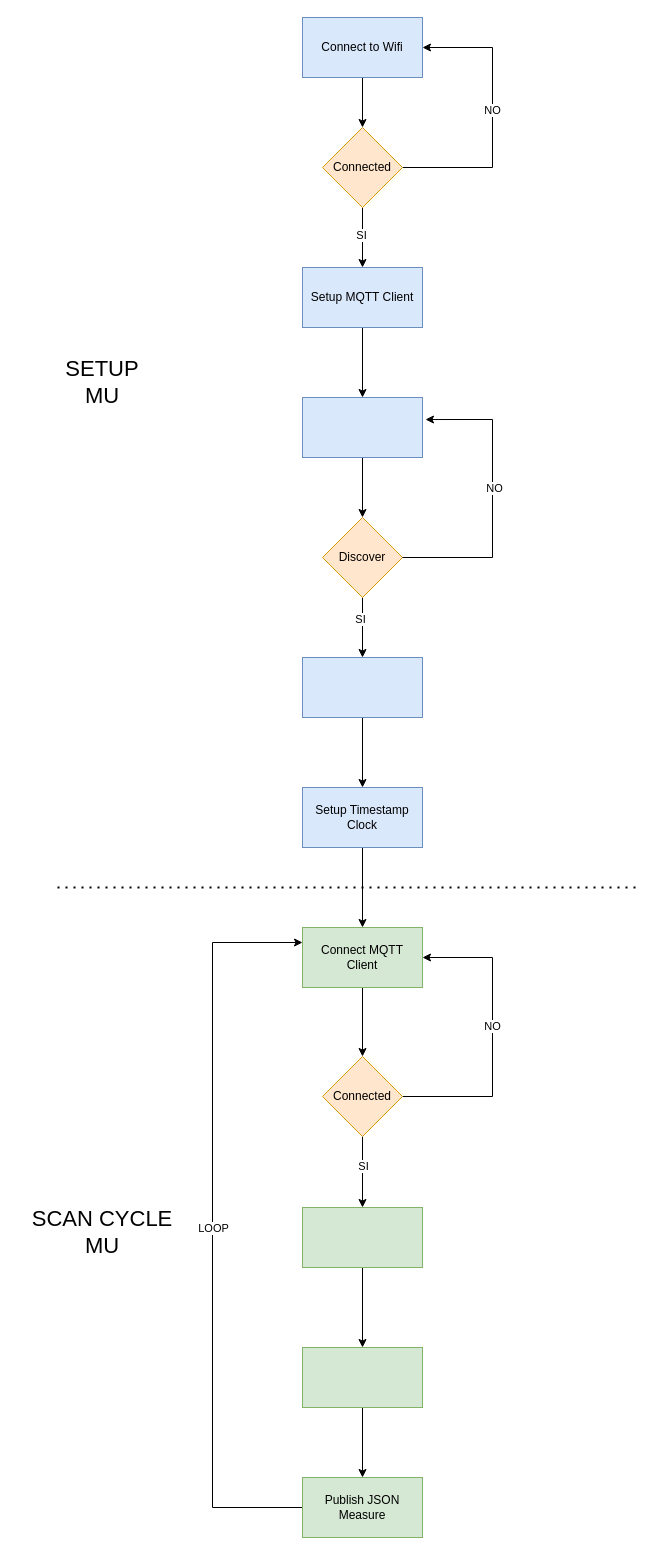
This 656x1555 diagram has some shape labels left out. Each missing label, with the centre of its shape:
"Convert to JSON" goes at (362,1377).
"Get Sensor Measure" goes at (362,1237).
"Setup Sensor Connection" goes at (362,427).
"Setup Sensor Range" goes at (362,687).
